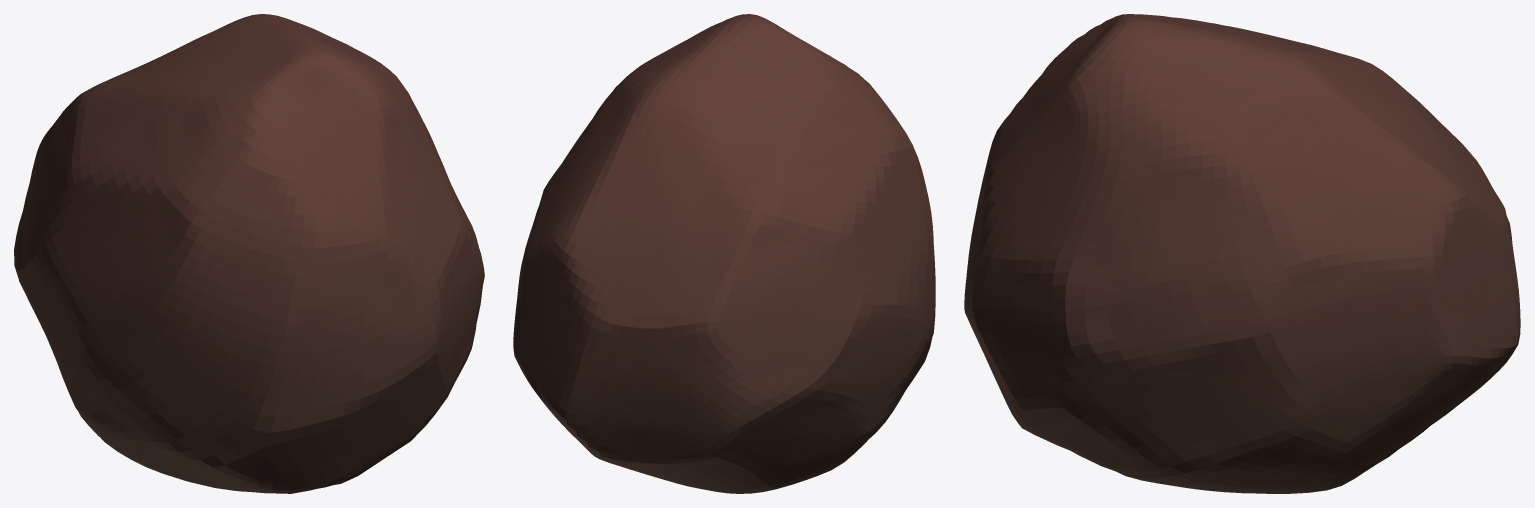
File: Rock3_Textured.fbx
3 renders of one model, left to right at view 1: azimuth 30°, elevation 25°; view 2: azimuth 150°, elevation 25°; view 3: azimuth 270°, elevation 25°, orthographic. The views are drawn at different scales.
Parts seen in each view (by area): view 1: Burned_tree1_LowPoly:Group30623; view 2: Burned_tree1_LowPoly:Group30623; view 3: Burned_tree1_LowPoly:Group30623.
Part boxes in pixels (x1,y1,x2,y2): Burned_tree1_LowPoly:Group30623: (14,14,484,493); Burned_tree1_LowPoly:Group30623: (513,14,935,493); Burned_tree1_LowPoly:Group30623: (964,14,1520,493).
Size of the model in its own units: 1.2 by 1.32 by 1.48.
Materials: 1 (1 with a texture image).
